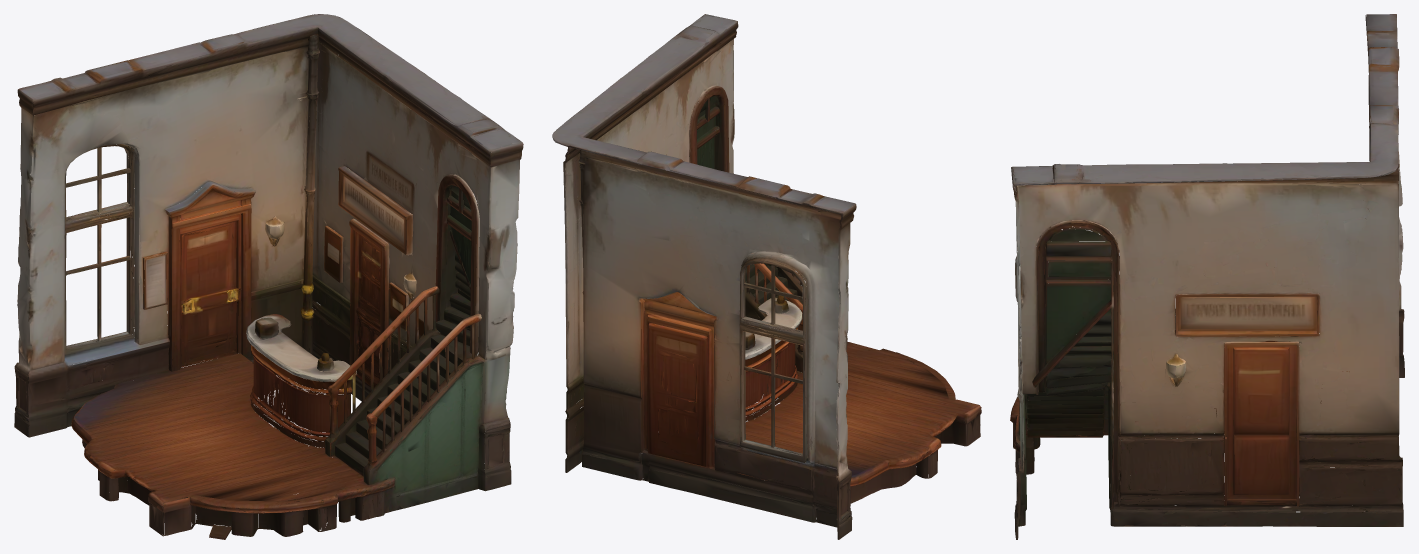
Rendered from env-hotel-lobby-shell.glb.
3 views of the same model, side by side, from view 1: azimuth 30°, elevation 25°; view 2: azimuth 150°, elevation 25°; view 3: azimuth 270°, elevation 25° (orthographic). The views are drawn at different scales.
Visible parts, largest first — view 1: env-hotel-lobby-shell; view 2: env-hotel-lobby-shell; view 3: env-hotel-lobby-shell.
Part boxes in pixels (bbox=[...]): env-hotel-lobby-shell: bbox=[14, 14, 523, 539]; env-hotel-lobby-shell: bbox=[552, 14, 981, 539]; env-hotel-lobby-shell: bbox=[1010, 14, 1404, 539].
Size of the model in its own units: 3.22 by 3.2 by 3.11.
1 material, 1 textured.
